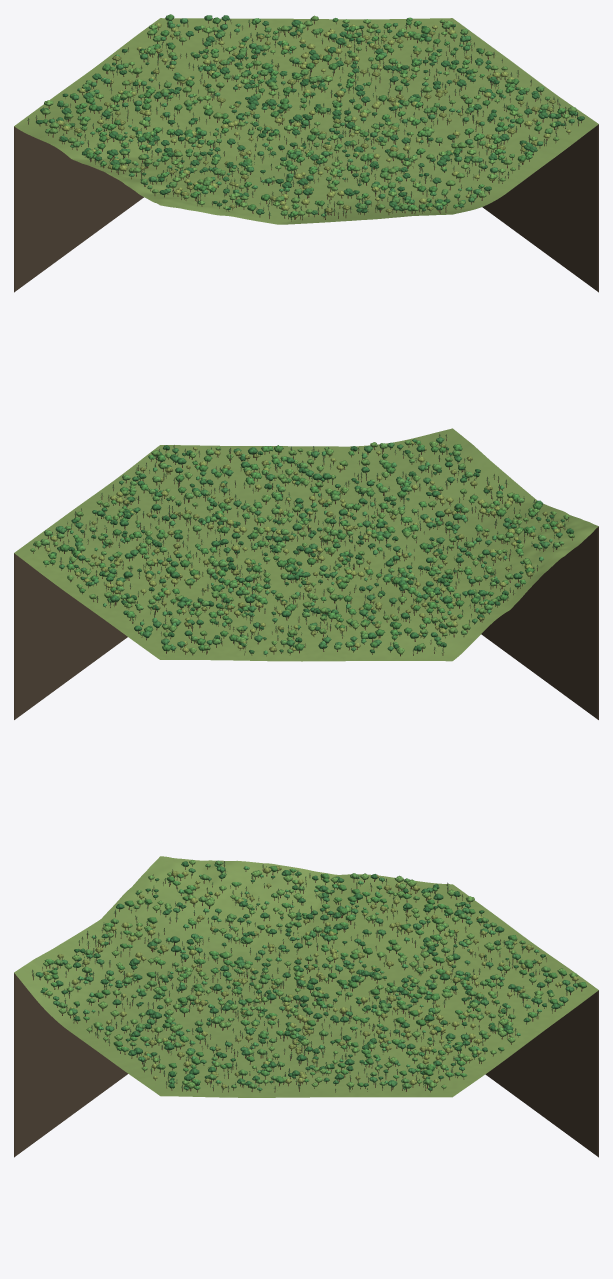
3 renders of one model, top to bottom at view 1: azimuth 30°, elevation 25°; view 2: azimuth 150°, elevation 25°; view 3: azimuth 270°, elevation 25°, orthographic.
Parts seen in each view (by area): view 1: terrain, broadleaf_canopy, hex_side_cut, trunks, conifer_canopy; view 2: terrain, broadleaf_canopy, hex_side_cut, trunks, conifer_canopy; view 3: terrain, broadleaf_canopy, hex_side_cut, trunks, conifer_canopy.
Boxes of the visible parts, box(x1,y1,x2,y2) form: terrain: box(14, 18, 598, 224); broadleaf_canopy: box(36, 14, 584, 217); hex_side_cut: box(14, 124, 598, 292); trunks: box(28, 19, 581, 221); conifer_canopy: box(27, 18, 579, 219); terrain: box(14, 428, 598, 661); broadleaf_canopy: box(30, 437, 574, 654); hex_side_cut: box(14, 526, 598, 719); trunks: box(33, 434, 572, 656); conifer_canopy: box(49, 434, 568, 653); terrain: box(14, 856, 598, 1097); broadleaf_canopy: box(35, 859, 586, 1090); hex_side_cut: box(14, 973, 598, 1157); trunks: box(32, 861, 582, 1092); conifer_canopy: box(32, 861, 567, 1090).
Size of the model in its own units: 4330 by 1854 by 5000.
6 materials, 1 textured.
